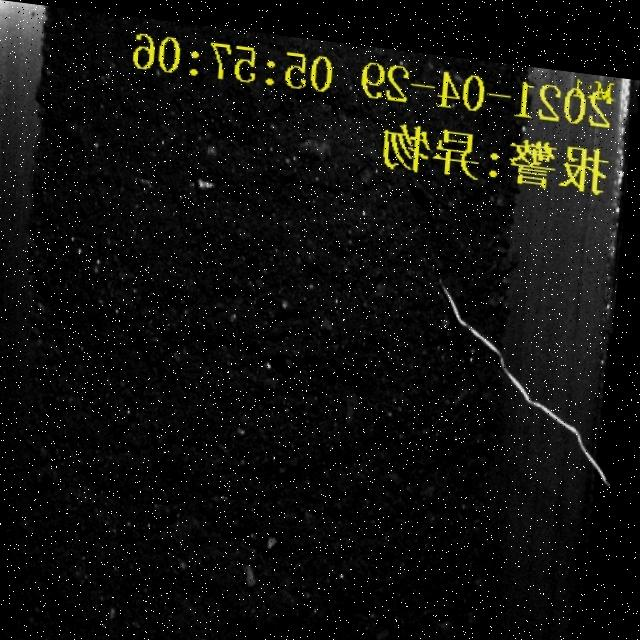bolt: (429, 274, 627, 480)
